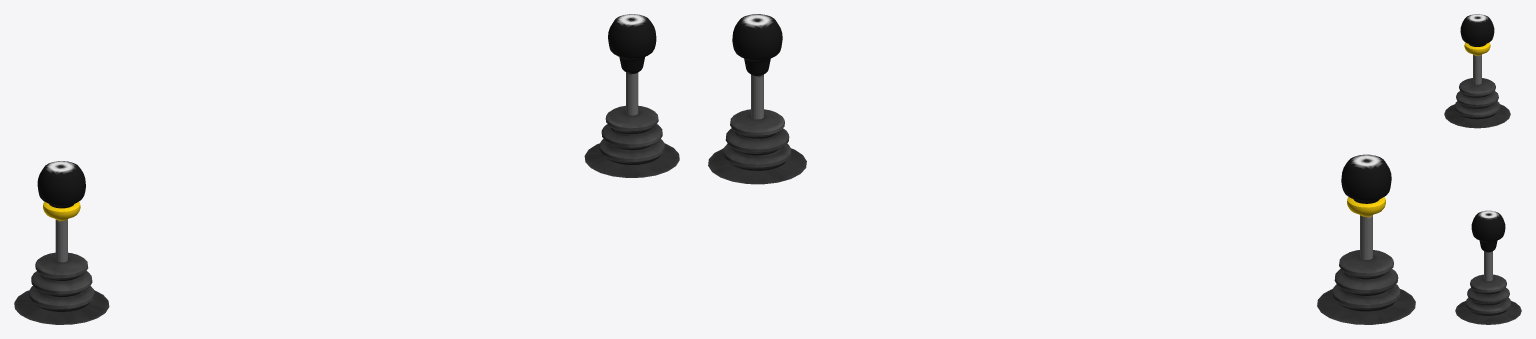
Rendered from gear.fbx.
The picture shows the model from 3 angles, left to right: view 1: azimuth 30°, elevation 25°; view 2: azimuth 150°, elevation 25°; view 3: azimuth 270°, elevation 25°; orthographic projection. The views are drawn at different scales.
Parts seen in each view (by area): view 1: polySurface12, polySurface10, polySurface11, polySurface13; view 2: polySurface12, polySurface10, polySurface11, polySurface13; view 3: polySurface12, polySurface10, polySurface11, polySurface13.
Boxes of the visible parts, bbox=[...] form: polySurface12: bbox=[28, 161, 94, 311]; polySurface10: bbox=[599, 14, 664, 164]; polySurface11: bbox=[584, 143, 679, 177]; polySurface13: bbox=[14, 290, 109, 324]; polySurface12: bbox=[1332, 154, 1400, 311]; polySurface10: bbox=[723, 14, 791, 170]; polySurface11: bbox=[708, 148, 806, 184]; polySurface13: bbox=[1317, 289, 1415, 324]; polySurface12: bbox=[1454, 14, 1500, 119]; polySurface10: bbox=[1465, 210, 1511, 315]; polySurface11: bbox=[1455, 301, 1521, 324]; polySurface13: bbox=[1444, 104, 1510, 128].
Size of the model in its own units: 86.34 by 18.33 by 12.62.
